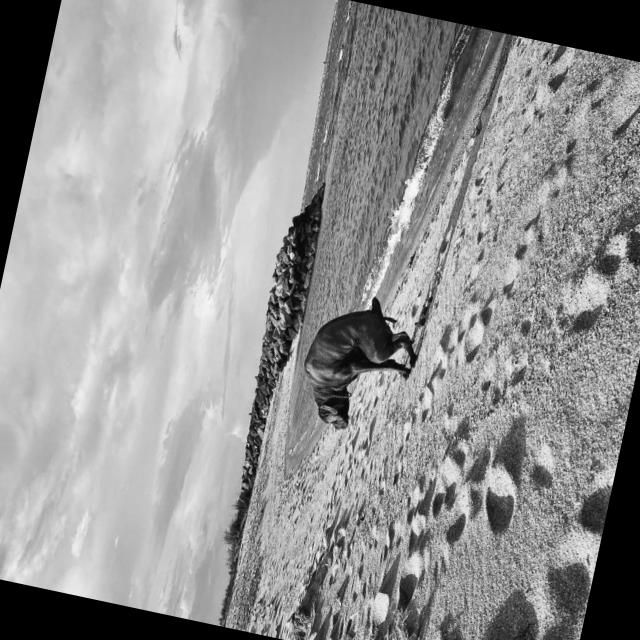squatting: (282, 282, 434, 446)
